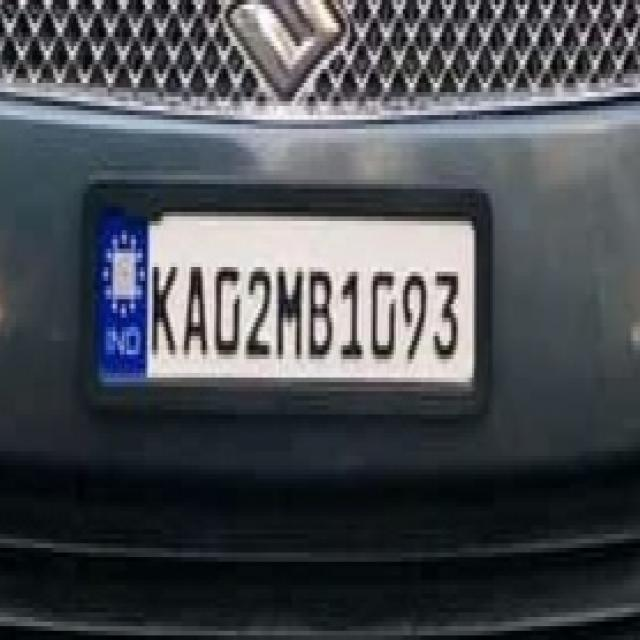0: (208, 253, 246, 362), (366, 268, 402, 378)
1: (335, 264, 367, 369)
3: (429, 258, 461, 372)
9: (398, 261, 432, 378)
A: (180, 256, 209, 361)
B: (307, 258, 336, 368)
K: (147, 255, 180, 358)
M: (272, 254, 306, 366)
